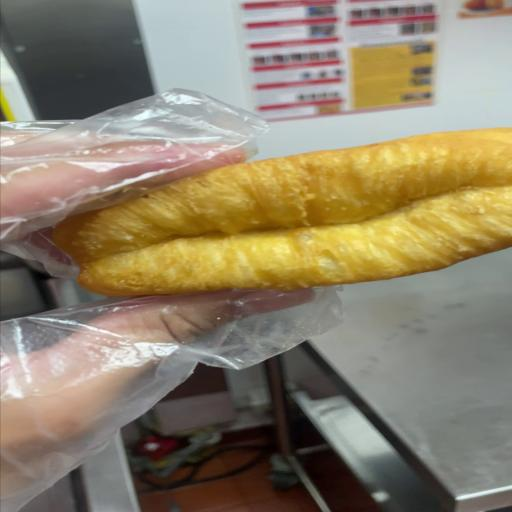brand_golden_good: (54, 128, 512, 296)
